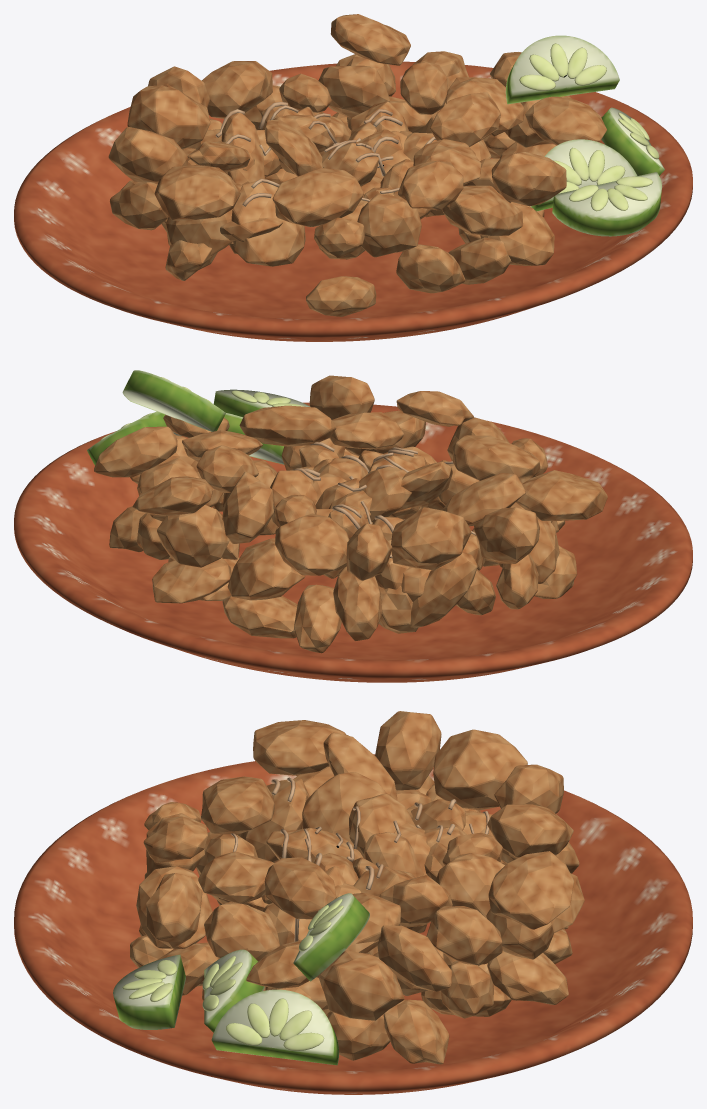
Rendered from plato_carnitas.gltf.
3 renders of one model, top to bottom at view 1: azimuth 30°, elevation 25°; view 2: azimuth 150°, elevation 25°; view 3: azimuth 270°, elevation 25°, orthographic. The views are drawn at different scales.
Visible parts, largest first — view 1: platon_carnitas, trozo_carne_extra_31, trozo_carne_extra_35, cascara_limon_extra_2, trozo_carne_extra_32, trozo_carne, cascara_limon_extra_1, trozo_carne_extra_28, trozo_carne_extra_25, trozo_carne_extra_36, trozo_carne_extra_18, trozo_carne_extra_30 (+37 smaller); view 2: platon_carnitas, trozo_carne_extra_32, trozo_carne_extra_30, trozo_carne_extra_35, trozo_carne_extra_24, cascara_limon_extra_1, trozo_carne_extra_37, trozo_carne_extra_15, trozo_carne_extra_31, trozo_carne_extra_36, trozo_carne_extra_38, trozo_carne.003 (+43 smaller); view 3: platon_carnitas, trozo_carne_extra_32, trozo_carne_extra_43, cascara_limon_extra_3, trozo_carne_extra_23, trozo_carne_extra_36, trozo_carne_extra_35, trozo_carne_extra_31, trozo_carne_extra_30, trozo_carne_extra_29, trozo_carne_extra_38, trozo_carne_extra_37 (+39 smaller).
Part boxes in pixels (x1,y1,x2,y2): platon_carnitas: (14,61,692,341); trozo_carne_extra_31: (272,168,363,226); trozo_carne_extra_35: (154,165,240,220); cascara_limon_extra_2: (552,172,661,236); trozo_carne_extra_32: (127,85,210,149); trozo_carne: (231,181,305,266); cascara_limon_extra_1: (505,35,619,104); trozo_carne_extra_28: (491,152,566,206); trozo_carne_extra_25: (357,194,421,257); trozo_carne_extra_36: (108,127,188,183); trozo_carne_extra_18: (442,185,523,236); trozo_carne_extra_30: (201,61,272,118); platon_carnitas: (14,402,692,682); trozo_carne_extra_32: (391,507,471,570); trozo_carne_extra_30: (275,513,349,575); trozo_carne_extra_35: (516,470,607,520); trozo_carne_extra_24: (157,504,229,567); cascara_limon_extra_1: (122,370,225,431); trozo_carne_extra_37: (239,405,336,446); trozo_carne_extra_15: (227,538,305,600); trozo_carne_extra_31: (452,435,540,482); trozo_carne_extra_36: (474,507,539,563); trozo_carne_extra_38: (94,426,177,477); trozo_carne.003: (410,552,477,628); platon_carnitas: (14,754,692,1094); trozo_carne_extra_32: (433,729,527,810); trozo_carne_extra_43: (488,851,573,929); cascara_limon_extra_3: (211,989,338,1065); trozo_carne_extra_23: (318,950,404,1020); trozo_carne_extra_36: (375,711,441,790); trozo_carne_extra_35: (253,720,345,775); trozo_carne_extra_31: (201,776,274,835); trozo_carne_extra_30: (487,804,573,857); trozo_carne_extra_29: (426,906,502,965); trozo_carne_extra_38: (377,925,451,991); trozo_carne_extra_37: (264,857,336,919).
Bounding box in the file's own units: 0.3335 × 0.0923 × 0.29.
Materials: 6 (6 with a texture image).
